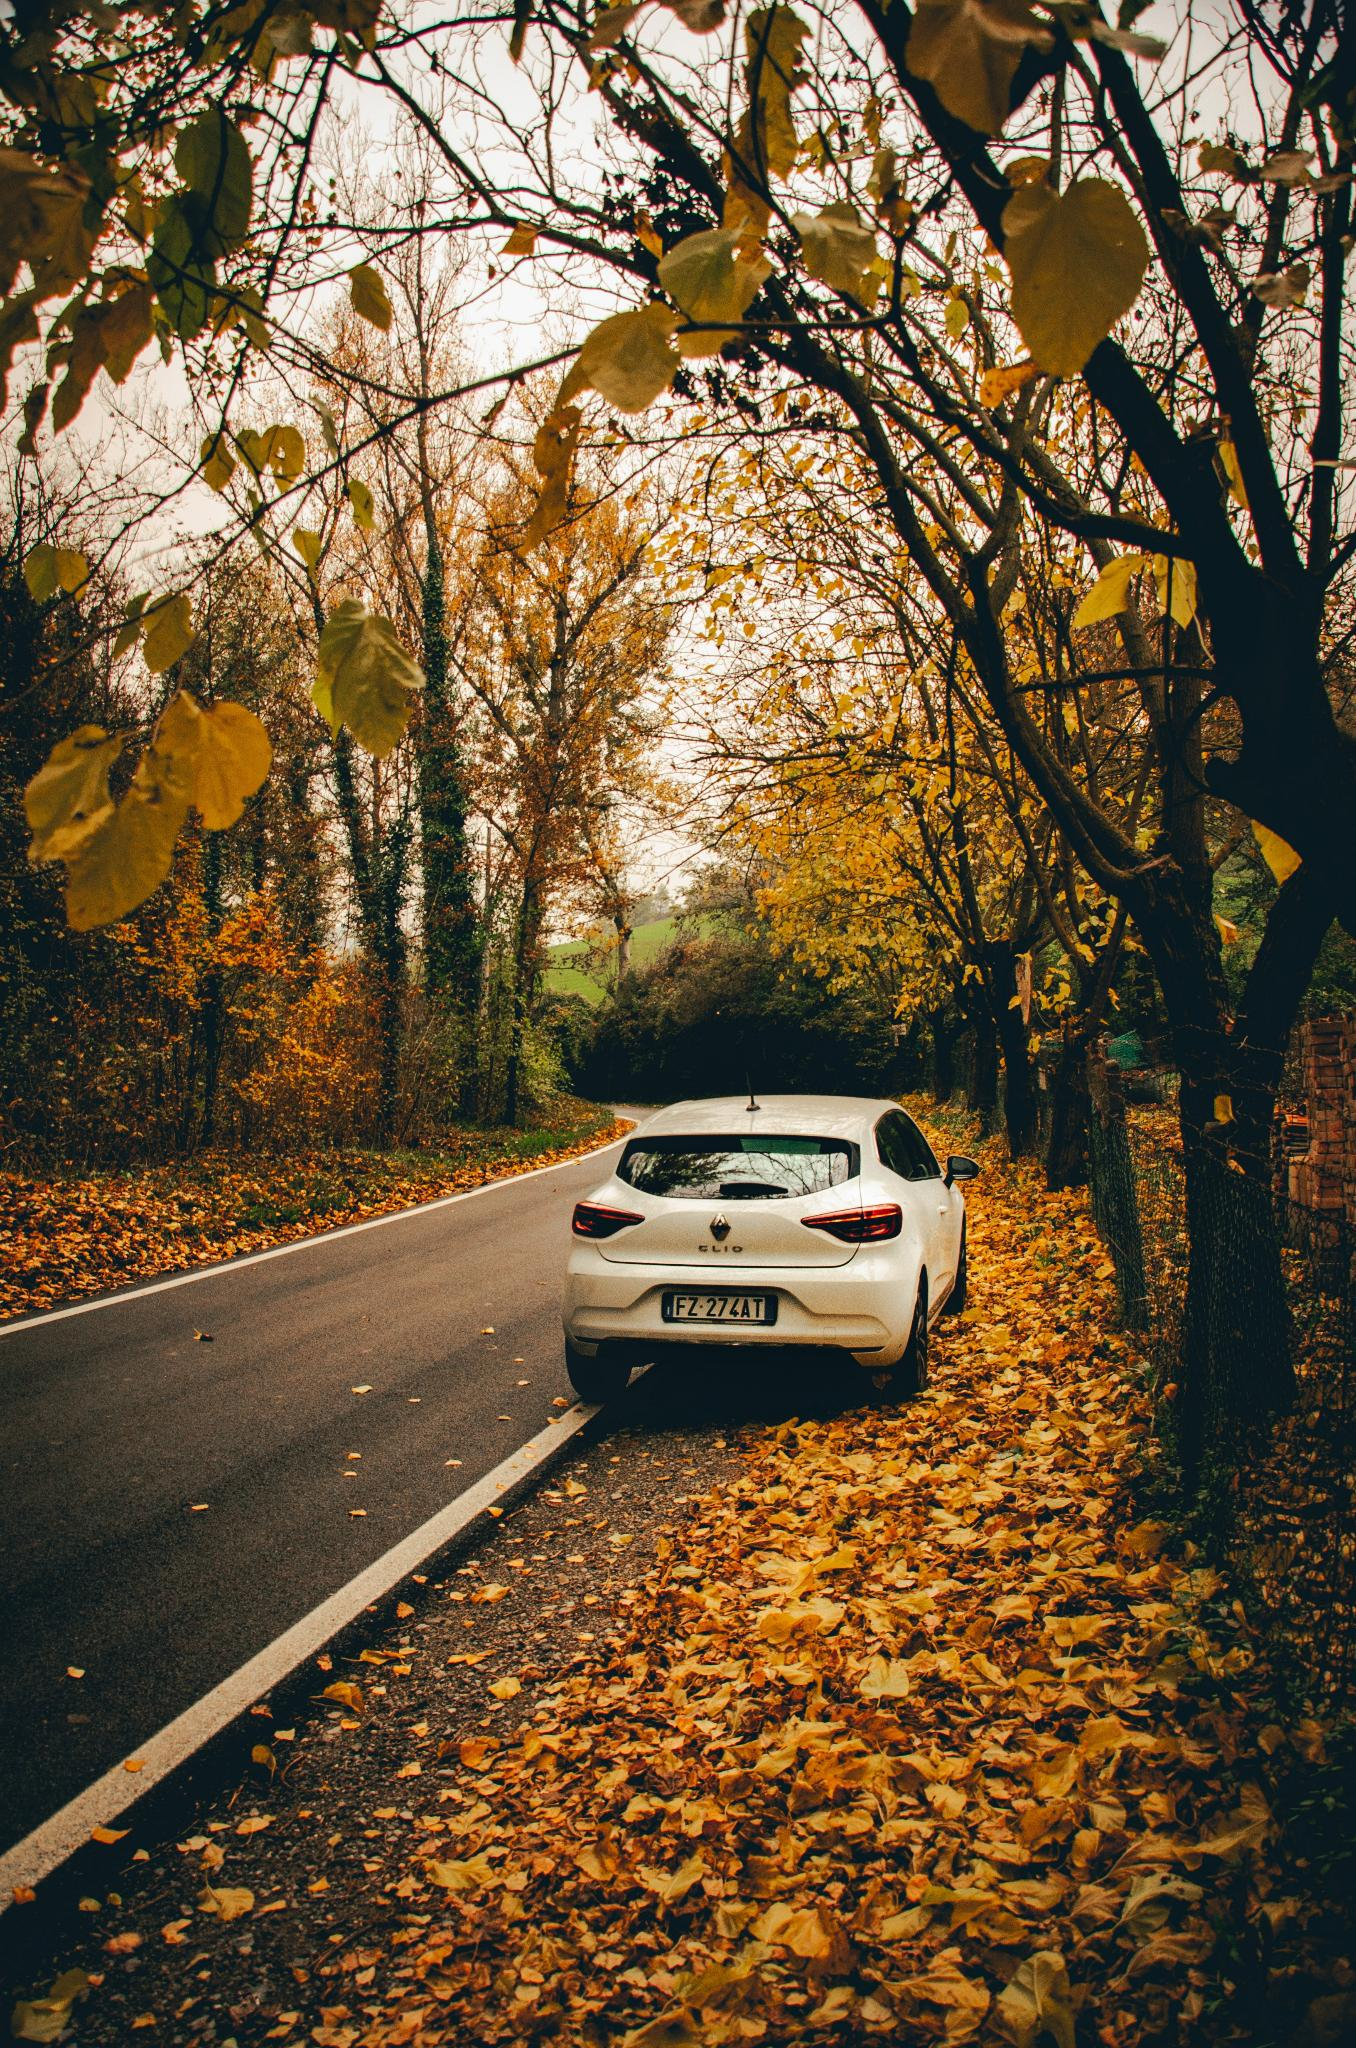Renault: (699, 1204, 741, 1248)
